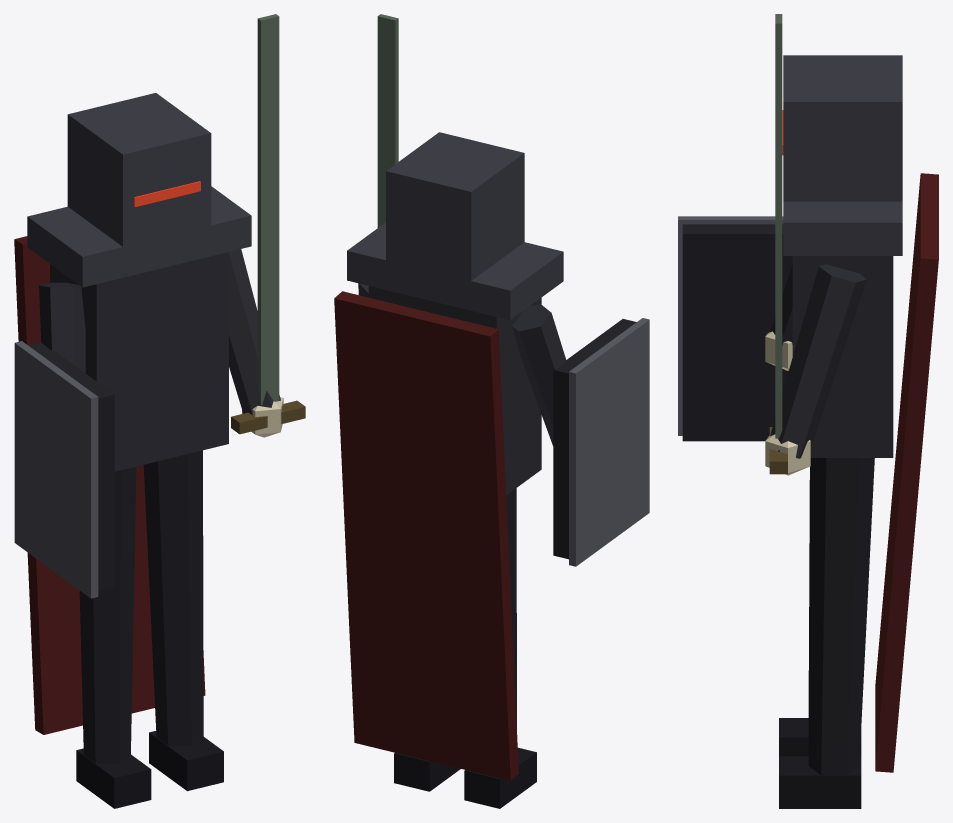
The model's file is todesritter.glb.
The picture shows the model from 3 angles, left to right: view 1: azimuth 30°, elevation 25°; view 2: azimuth 150°, elevation 25°; view 3: azimuth 270°, elevation 25°; orthographic projection. The views are drawn at different scales.
Bounding box in the file's own units: 0.7 × 1.96 × 0.5695.
Materials: 1 (1 with a texture image).
